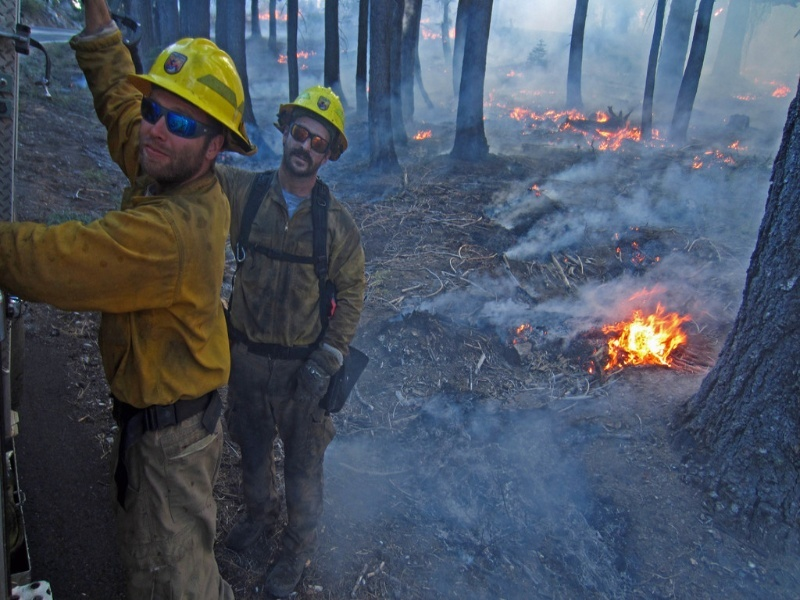Baret: (127, 38, 252, 125), (279, 87, 347, 136)
